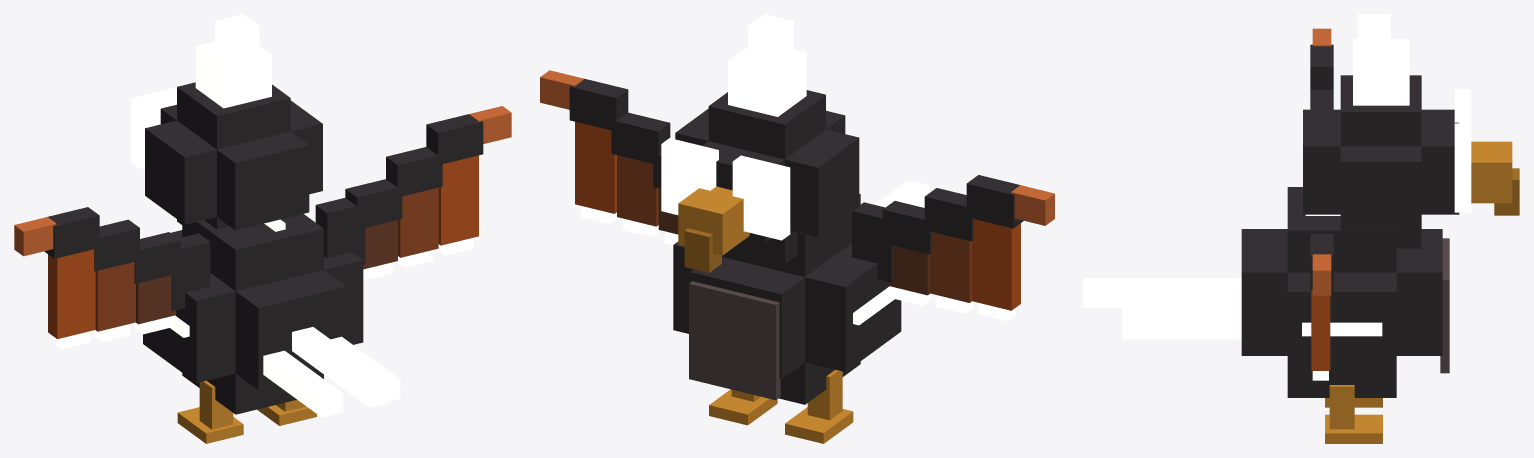
The model's file is CinderPhoenix.glb.
The picture shows the model from 3 angles, left to right: view 1: azimuth 30°, elevation 25°; view 2: azimuth 150°, elevation 25°; view 3: azimuth 270°, elevation 25°; orthographic projection. The views are drawn at different scales.
Parts seen in each view (by area): view 1: Voxel; view 2: Voxel; view 3: Voxel.
Part boxes in pixels (bbox=[...]): Voxel: bbox=[14, 14, 511, 443]; Voxel: bbox=[540, 14, 1054, 443]; Voxel: bbox=[1083, 14, 1519, 443].
Bounding box in the file's own units: 4.85 × 3.7 × 3.69.
